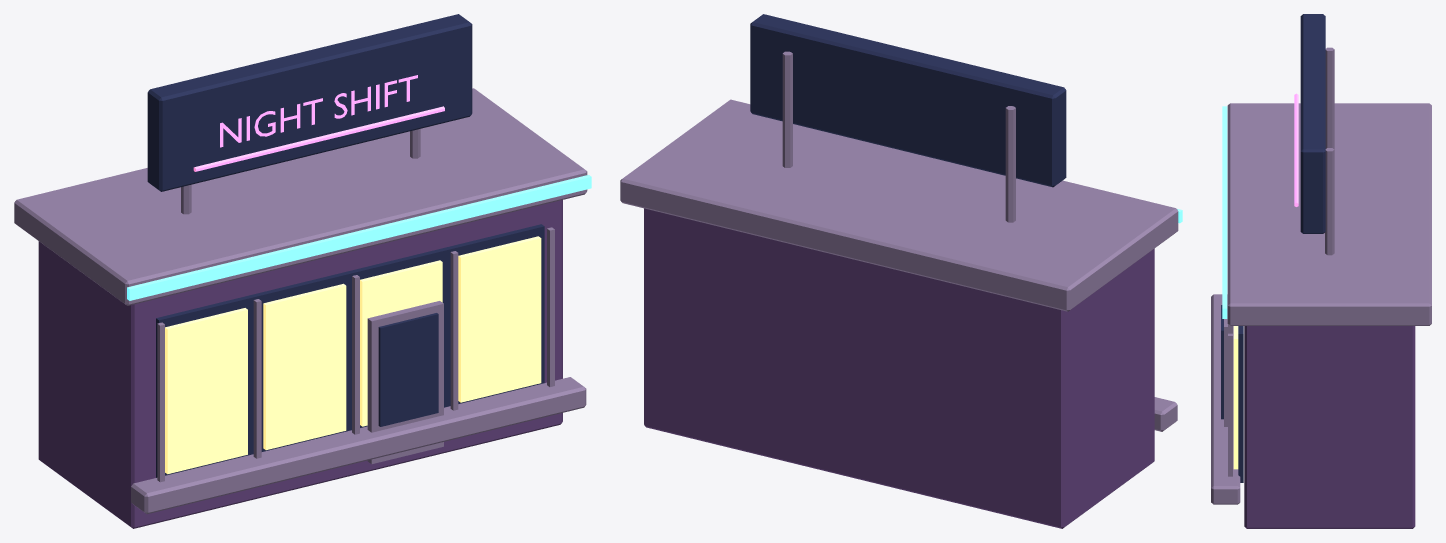
File: sfv2_neon_diner.glb
The picture shows the model from 3 angles, left to right: view 1: azimuth 30°, elevation 25°; view 2: azimuth 150°, elevation 25°; view 3: azimuth 270°, elevation 25°; orthographic projection. The views are drawn at different scales.
Parts seen in each view (by area): view 1: sfv2_neon_diner__sf_lavender_trim, sfv2_neon_diner__sf_midnight_blue, sfv2_neon_diner__sf_emissive_window, sfv2_neon_diner__sf_violet_stucco, sfv2_neon_diner__sf_emissive_cyan, sfv2_neon_diner__sf_emissive_pink; view 2: sfv2_neon_diner__sf_violet_stucco, sfv2_neon_diner__sf_lavender_trim, sfv2_neon_diner__sf_midnight_blue; view 3: sfv2_neon_diner__sf_lavender_trim, sfv2_neon_diner__sf_violet_stucco, sfv2_neon_diner__sf_midnight_blue, sfv2_neon_diner__sf_emissive_cyan, sfv2_neon_diner__sf_emissive_window, sfv2_neon_diner__sf_emissive_pink.
Boxes of the visible parts, bbox=[...] form: sfv2_neon_diner__sf_lavender_trim: bbox=[14, 88, 587, 514]; sfv2_neon_diner__sf_midnight_blue: bbox=[147, 14, 544, 477]; sfv2_neon_diner__sf_emissive_window: bbox=[165, 236, 541, 474]; sfv2_neon_diner__sf_violet_stucco: bbox=[38, 200, 562, 528]; sfv2_neon_diner__sf_emissive_cyan: bbox=[127, 175, 591, 300]; sfv2_neon_diner__sf_emissive_pink: bbox=[193, 75, 444, 171]; sfv2_neon_diner__sf_violet_stucco: bbox=[644, 208, 1154, 528]; sfv2_neon_diner__sf_lavender_trim: bbox=[620, 51, 1178, 431]; sfv2_neon_diner__sf_midnight_blue: bbox=[750, 14, 1066, 187]; sfv2_neon_diner__sf_lavender_trim: bbox=[1211, 47, 1431, 504]; sfv2_neon_diner__sf_violet_stucco: bbox=[1244, 326, 1415, 528]; sfv2_neon_diner__sf_midnight_blue: bbox=[1221, 14, 1325, 482]; sfv2_neon_diner__sf_emissive_cyan: bbox=[1222, 106, 1227, 318]; sfv2_neon_diner__sf_emissive_window: bbox=[1233, 326, 1238, 469]; sfv2_neon_diner__sf_emissive_pink: bbox=[1294, 93, 1298, 206].
Size of the model in its own units: 31.89 by 25.99 by 14.7.
